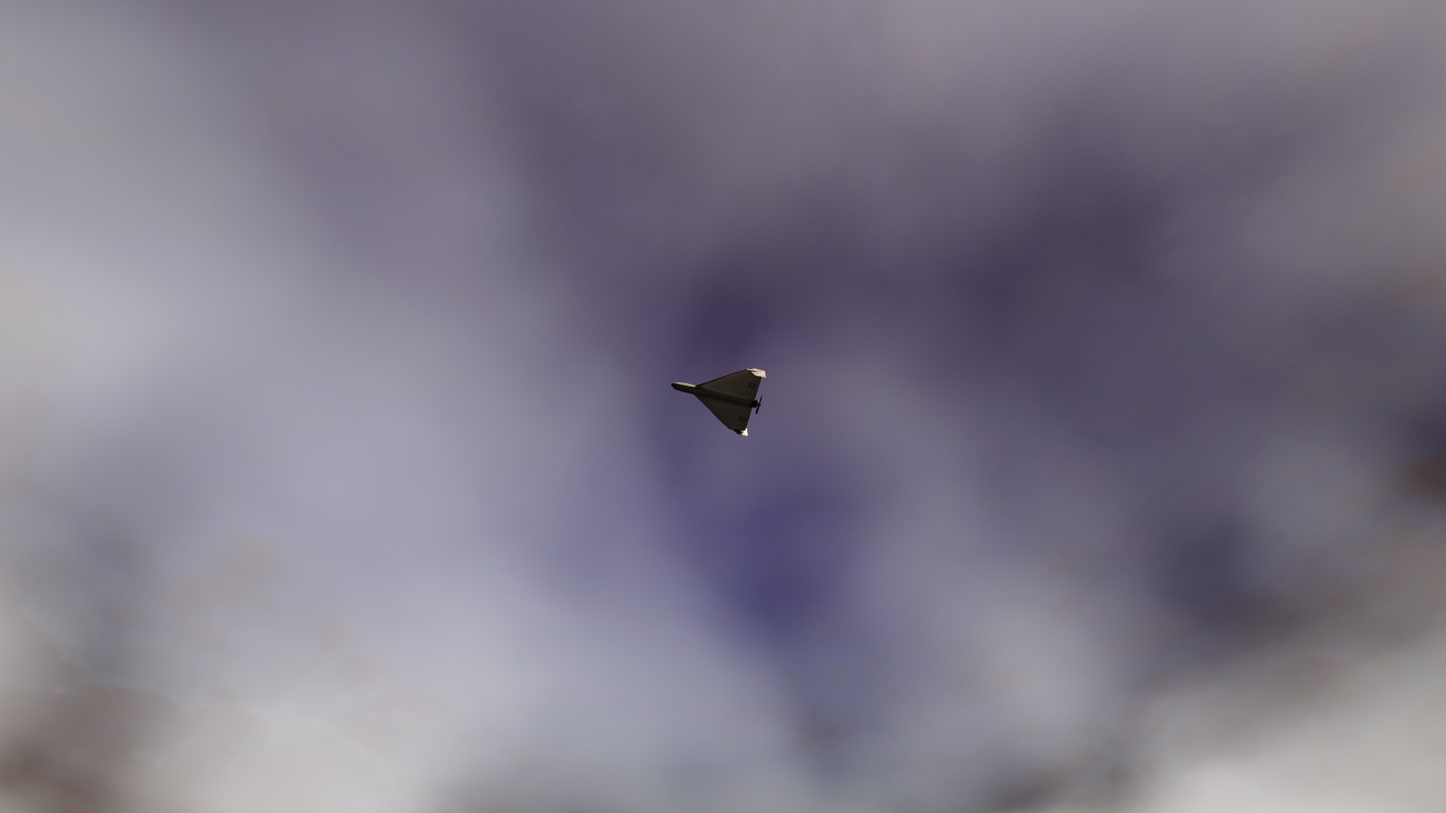shahed: (671, 368, 766, 436)
